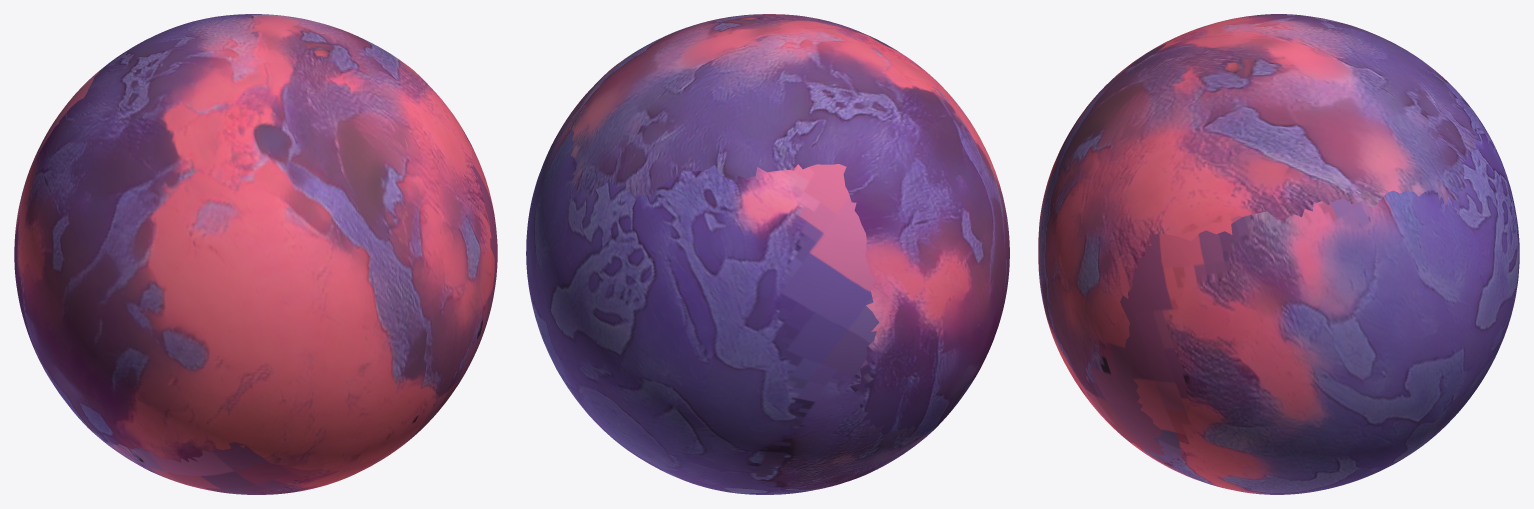
Rendered from planetaRoca.obj.
3 renders of one model, left to right at view 1: azimuth 30°, elevation 25°; view 2: azimuth 150°, elevation 25°; view 3: azimuth 270°, elevation 25°, orthographic.
Parts seen in each view (by area): view 1: planetaRoca; view 2: planetaRoca; view 3: planetaRoca.
Part boxes in pixels (x1,y1,x2,y2): planetaRoca: (14, 14, 497, 494); planetaRoca: (526, 14, 1009, 494); planetaRoca: (1038, 14, 1519, 494).
Size of the model in its own units: 15.25 by 15.19 by 15.23.
